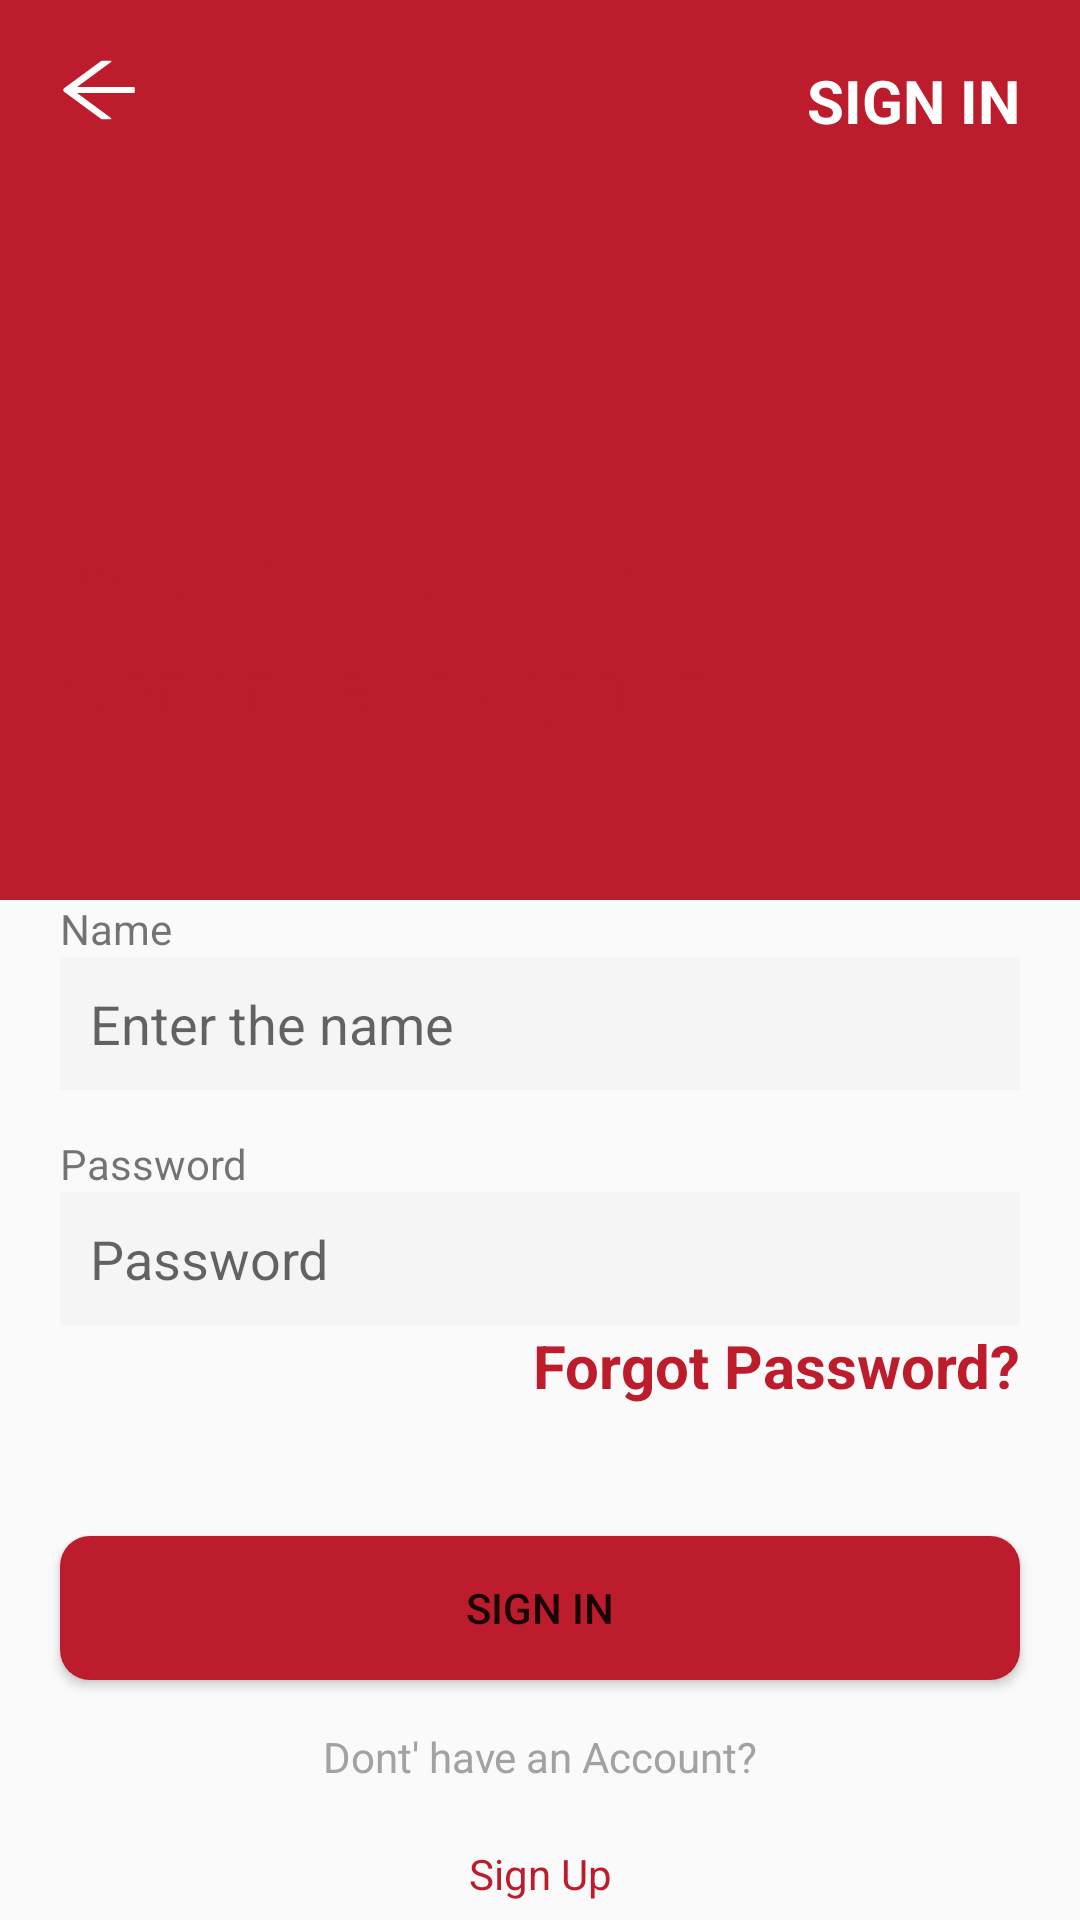

Where to tap for icons on this 1080×1920 app screen, as [x,y]:
back: [99,90]
